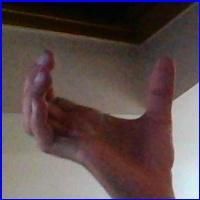space: (13, 49, 183, 185)
